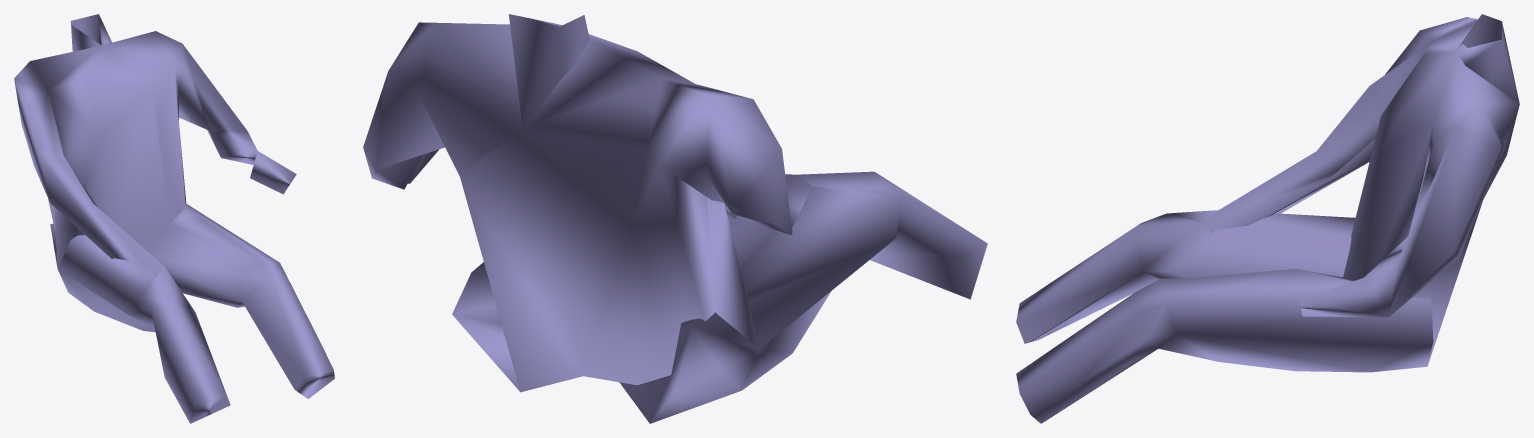
Rendered from m_jet_5dac2c1e.glb.
3 renders of one model, left to right at view 1: azimuth 30°, elevation 25°; view 2: azimuth 150°, elevation 25°; view 3: azimuth 270°, elevation 25°, orthographic. The views are drawn at different scales.
Visible parts, largest first — view 1: mesh; view 2: mesh; view 3: mesh.
Boxes of the visible parts, x1,y1,x2,y2 form: mesh: (14,14,334,423); mesh: (363,14,987,423); mesh: (1016,14,1519,423).
Size of the model in its own units: 491 by 560 by 704.
